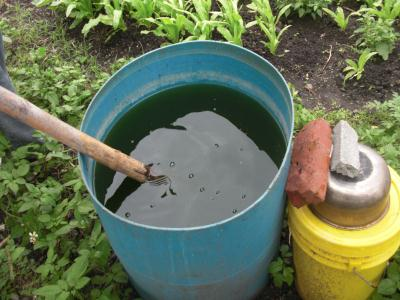bowl: (310, 142, 393, 232)
bucket: (78, 41, 293, 299), (287, 166, 400, 299)
